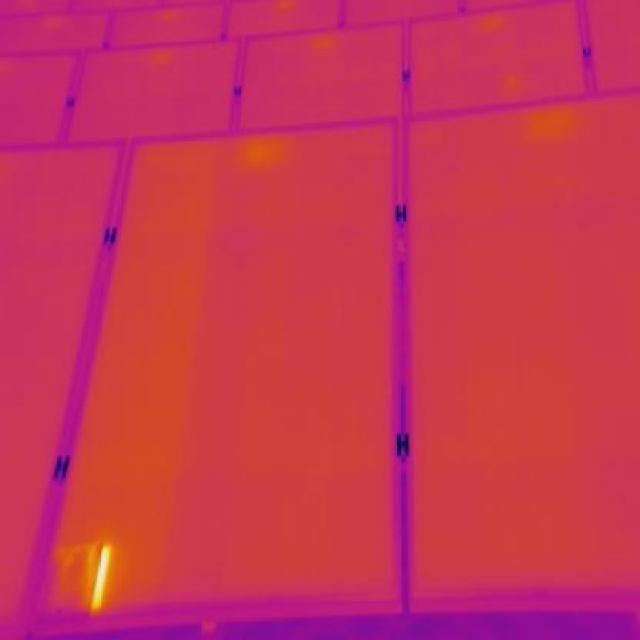hotspot: (37, 541, 114, 608)
